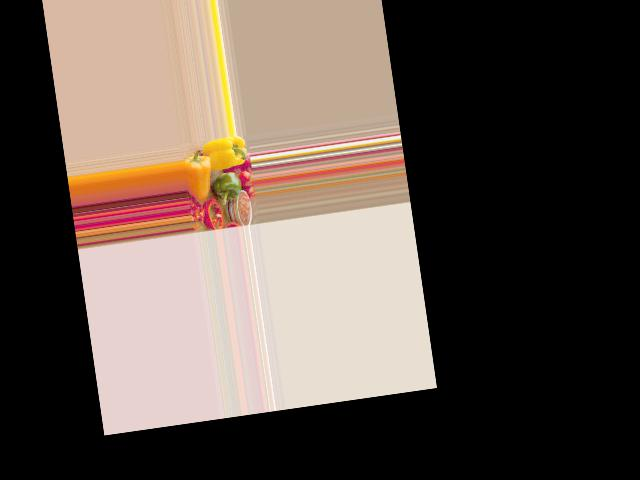bell_pepper: (208, 135, 248, 171)
